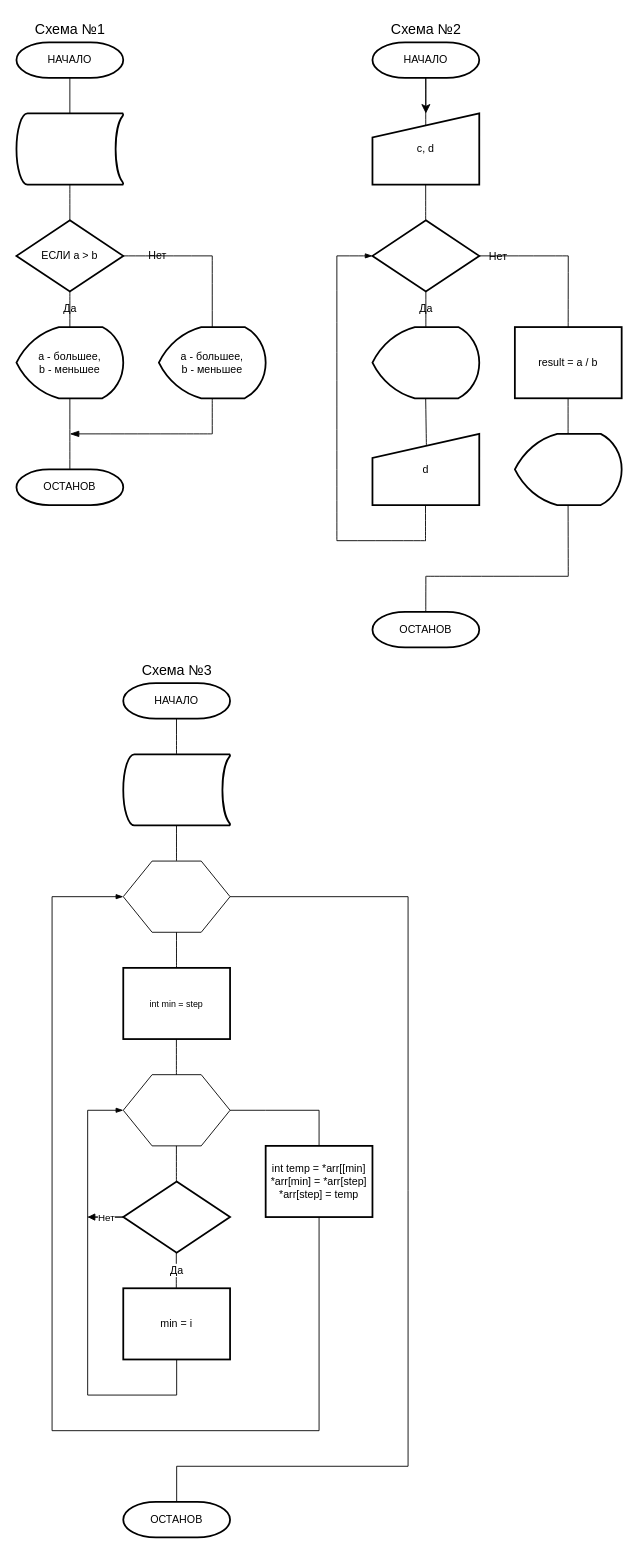
Some shapes in this 637 by 1553 pixel diagram are drawn without their labels. The centre of each missing label's shape, as x and y in pixels:
"a = 2, b = 3" goes at [69,148].
"arr[i] < arr[min]" goes at [176,1216].
"i = step+1; i < size; i++" goes at [176,1110].
"int arr[] = { 4, 1, 2, 5, 3 }, int size = sizeof(data) / sizeof(date[0])" goes at [176,789].
"result" goes at [568,469].
"step = 0; step < size -1; step++" goes at [176,896].
"Делить на ноль нельзя!" goes at [425,362].
"ЕСЛИ d = 0" goes at [425,255].
